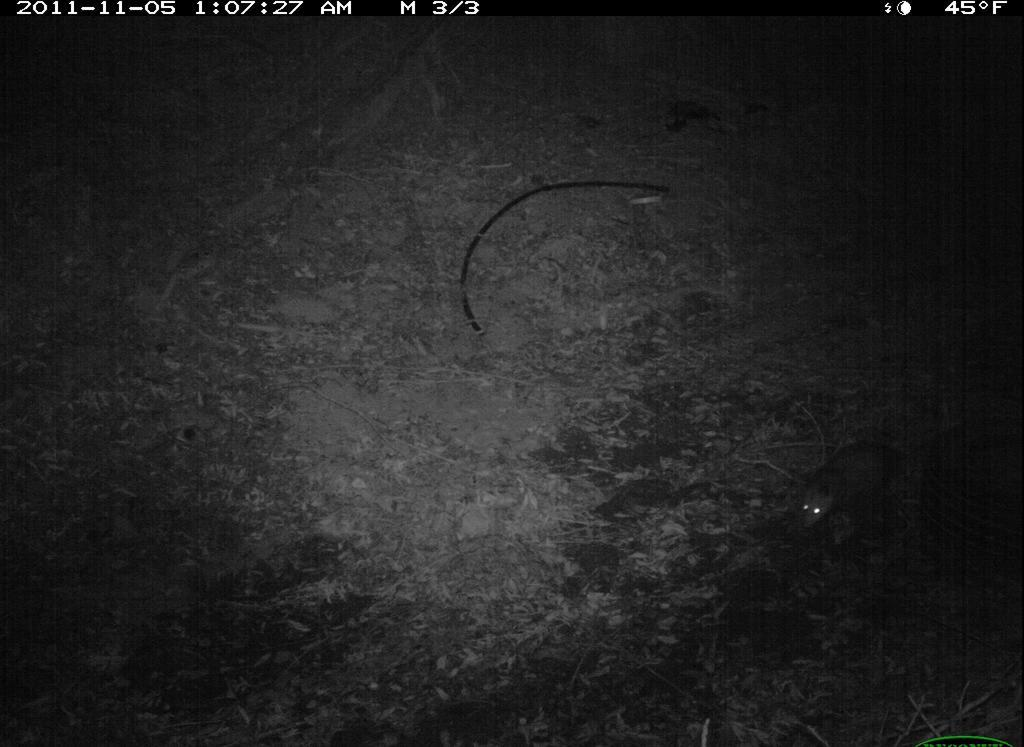opossum: (794, 425, 934, 537)
